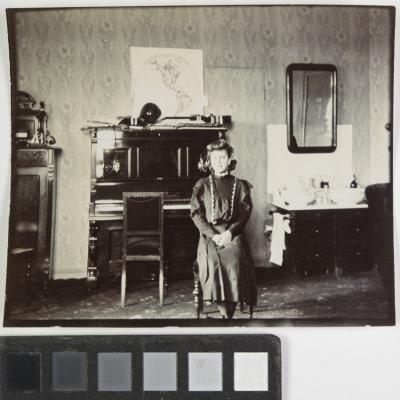photos_negatives: (9, 0, 400, 322)
